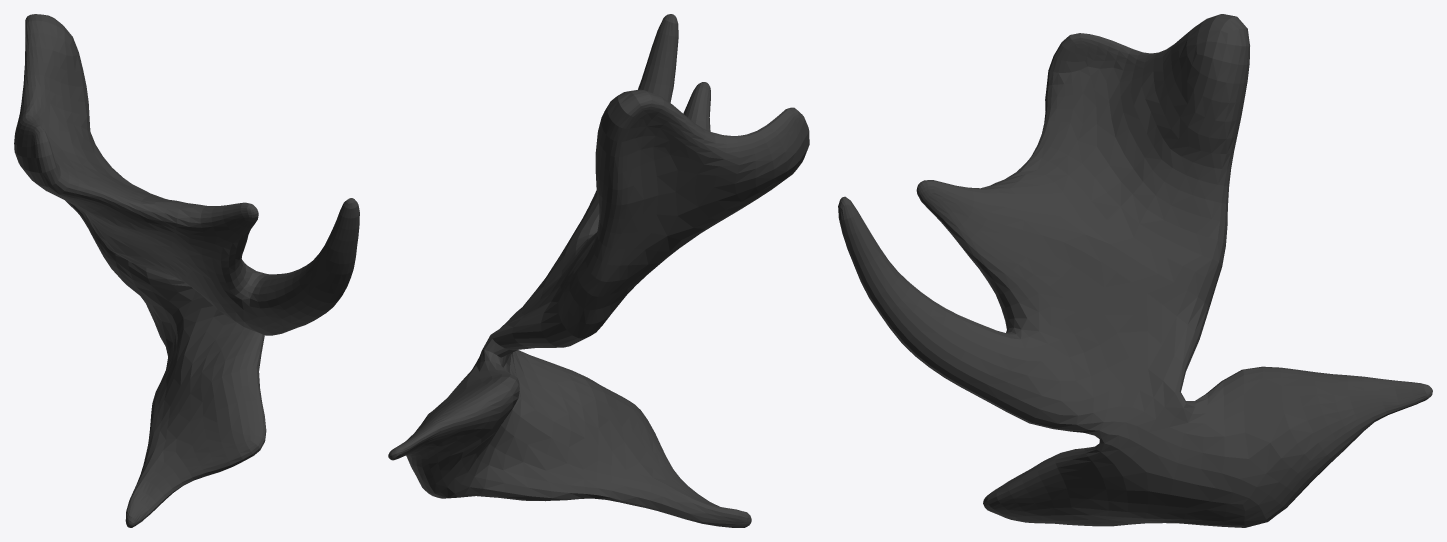
File: cart_arytenoid_LO_R.glb
The picture shows the model from 3 angles, left to right: view 1: azimuth 30°, elevation 25°; view 2: azimuth 150°, elevation 25°; view 3: azimuth 270°, elevation 25°; orthographic projection. The views are drawn at different scales.
Visible parts, largest first — view 1: cart_arytenoid_LO_R; view 2: cart_arytenoid_LO_R; view 3: cart_arytenoid_LO_R.
Part boxes in pixels (left/top/right/bottom): cart_arytenoid_LO_R: left=14, top=14, right=359, bottom=527; cart_arytenoid_LO_R: left=388, top=14, right=809, bottom=527; cart_arytenoid_LO_R: left=838, top=14, right=1432, bottom=527.
Size of the model in its own units: 0.1526 by 0.2563 by 0.2786.
1 material, 1 textured.
